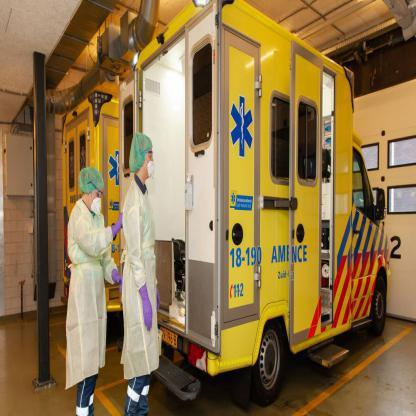Ambulance - v1 Ambulance last generate: (136, 0, 390, 398)
